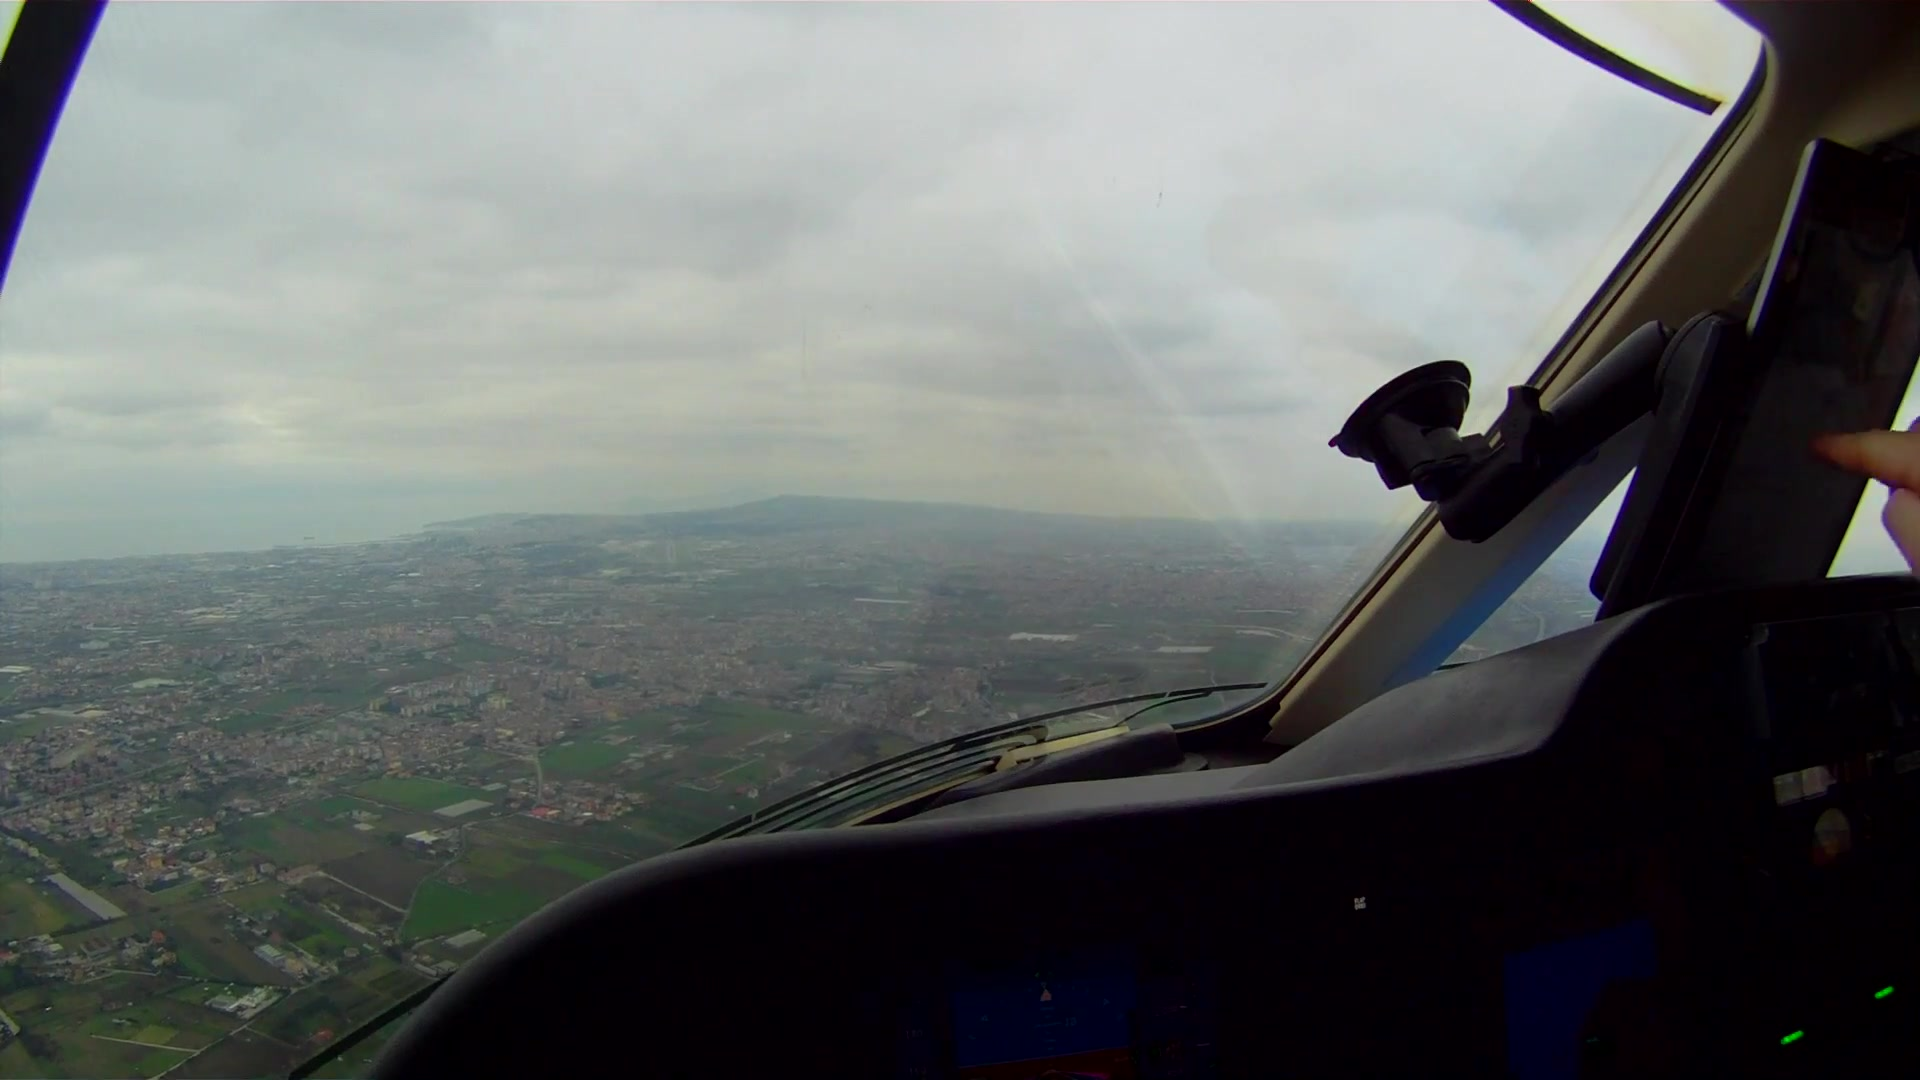runway: (663, 537, 678, 564)
